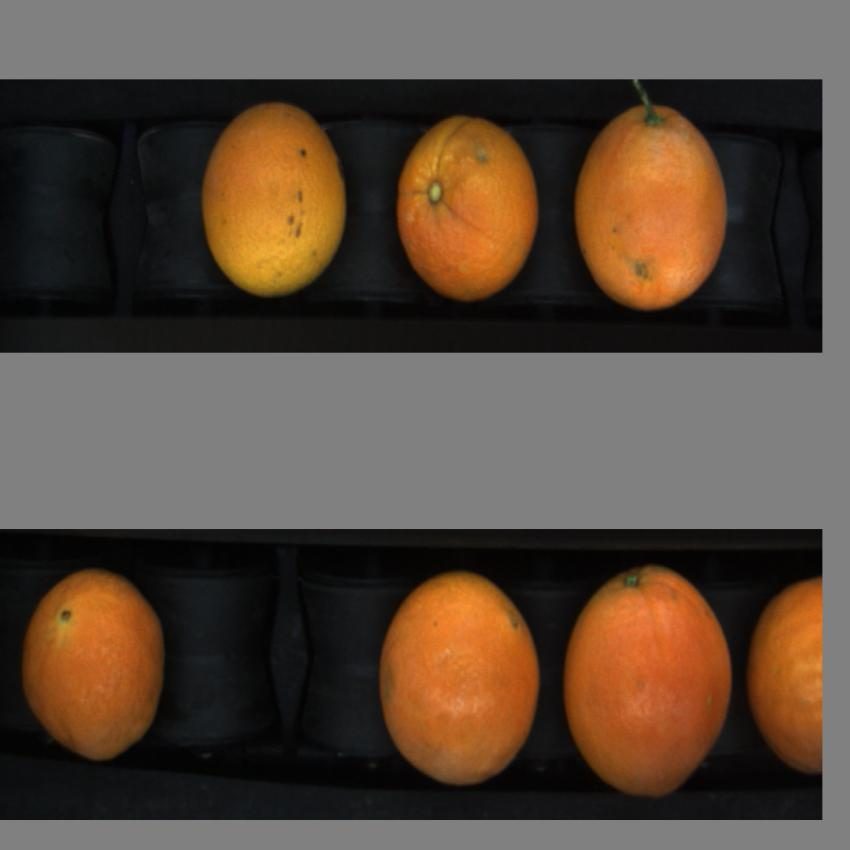Buen estado: (198, 100, 356, 296), (747, 568, 823, 782)
Mal estado: (562, 562, 740, 797), (374, 568, 544, 786), (572, 101, 737, 312), (20, 566, 174, 764), (394, 110, 543, 302)
